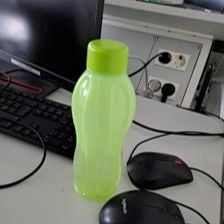bottle: (69, 36, 137, 200)
